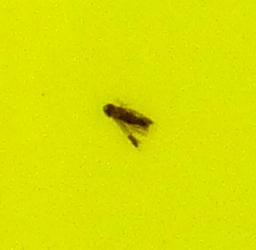Hemiptera: (100, 100, 156, 150)
